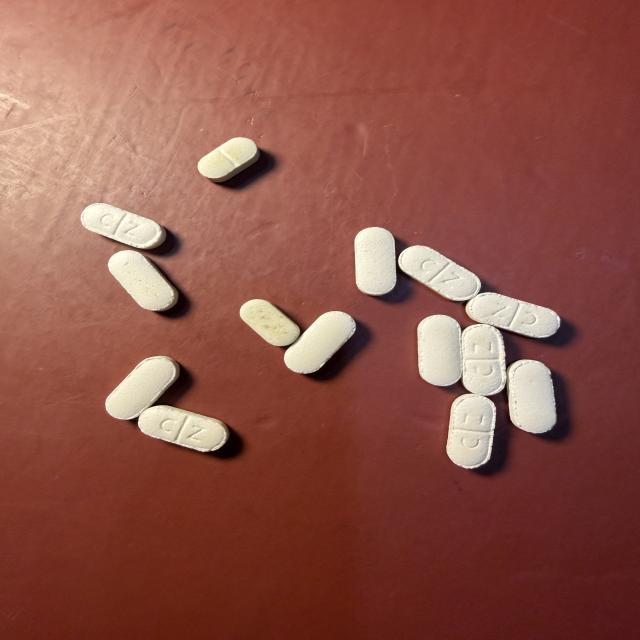pill: (106, 356, 179, 419), (399, 246, 480, 301), (285, 311, 355, 373), (108, 250, 178, 311), (466, 293, 560, 338), (138, 406, 228, 451), (81, 204, 166, 249), (507, 360, 556, 433), (447, 394, 495, 468), (462, 324, 506, 395), (418, 315, 461, 386), (240, 299, 300, 346), (355, 227, 396, 295), (198, 138, 259, 182)
